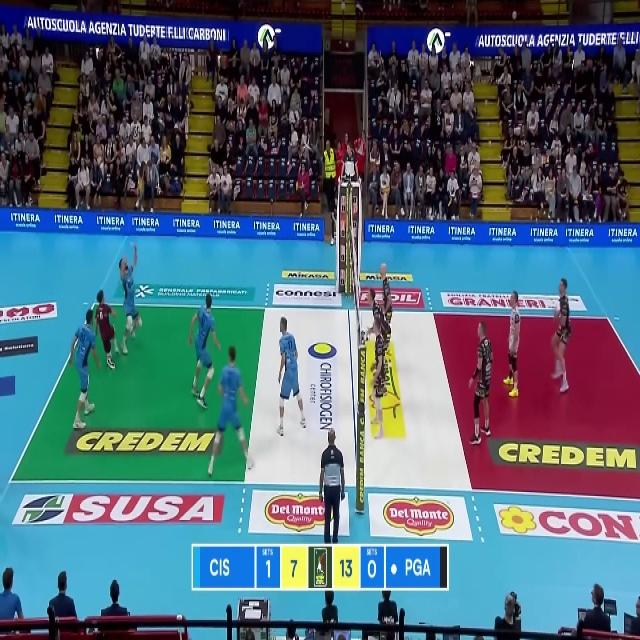volleyball court: (7, 300, 638, 500)
